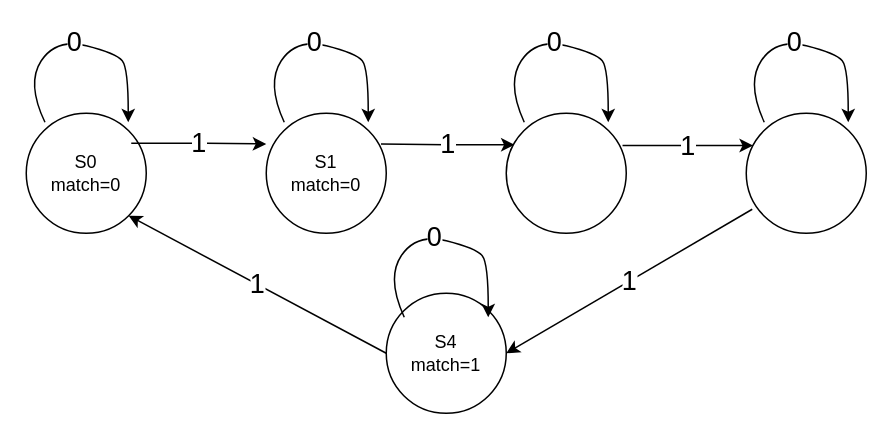
This 893x440 diagram has some shape labels left out. The shapes that lost their labels are listed below. From the top down, each one's centre as x and y in pixels, then its label:
At (x=565, y=172): "S2 match=0".
At (x=805, y=172): "S3 match=0".
